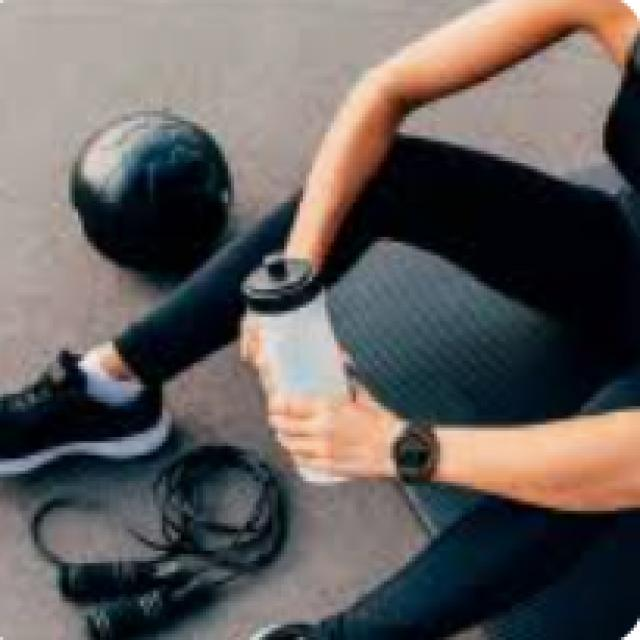Watch: (390, 414, 438, 492)
